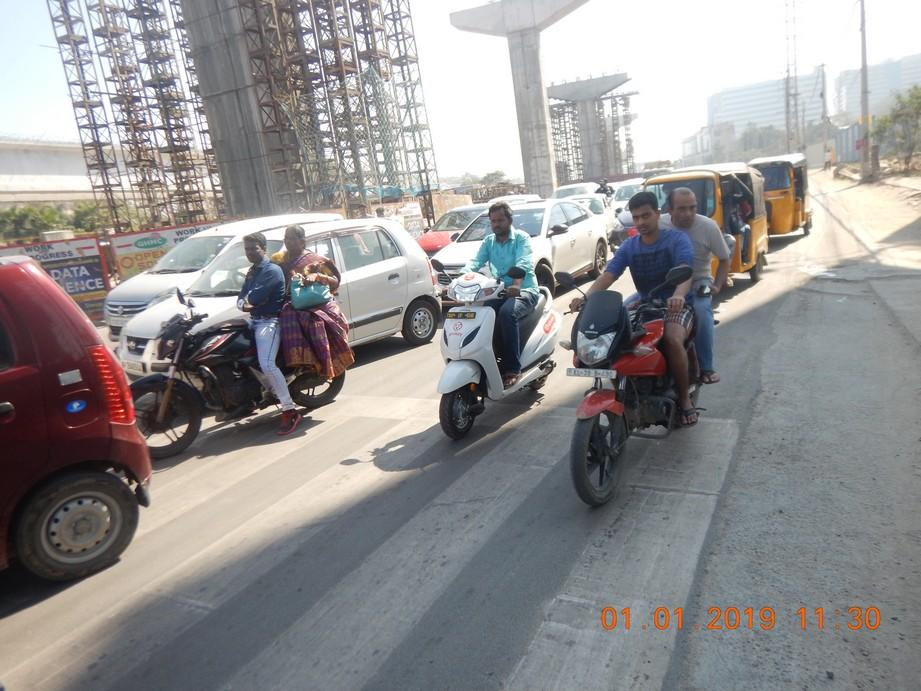plate: (565, 367, 618, 380), (444, 309, 476, 319)
